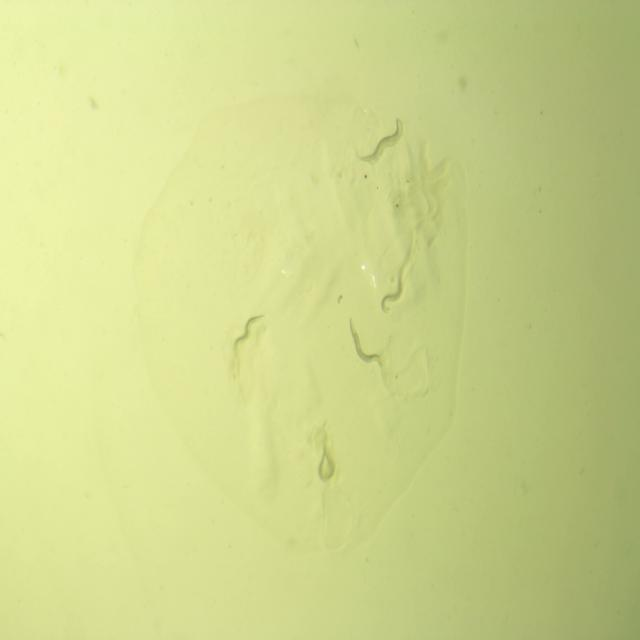worm: (346, 311, 388, 378), (352, 115, 404, 165), (366, 114, 407, 169), (374, 263, 410, 318), (230, 310, 266, 359), (313, 426, 338, 488)
